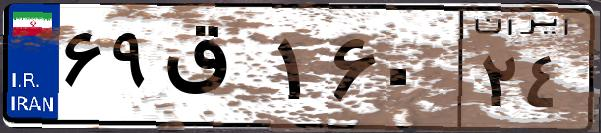0: (385, 28, 445, 110)
1: (270, 28, 330, 110)
2: (475, 38, 525, 113)
4: (525, 38, 570, 115)
6: (330, 28, 385, 110), (57, 26, 110, 100)
9: (110, 28, 158, 98)
ق: (158, 20, 270, 120)
